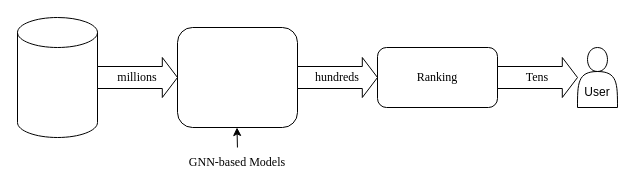
Image size: 635x195. Some labels were removed from this diagram. Here are the shapes that lost their labels. From the top down, the centre of each, then its label:
pixel 57 77: Items
pixel 237 77: Matching
